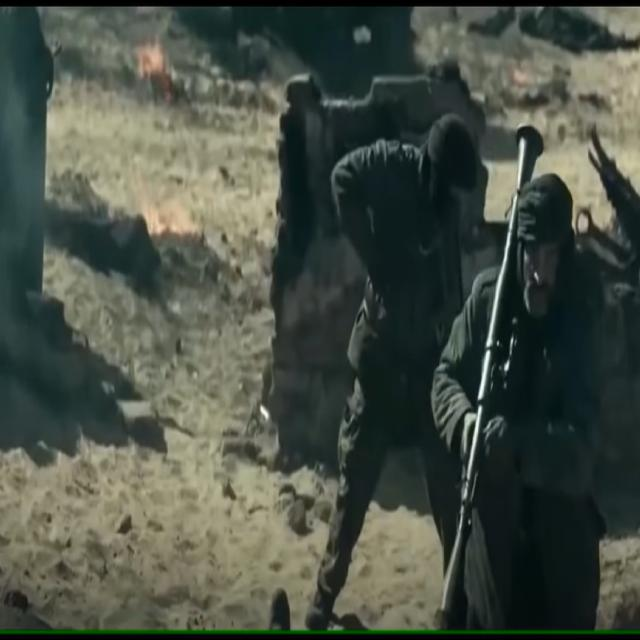bazooka: (433, 103, 558, 624)
